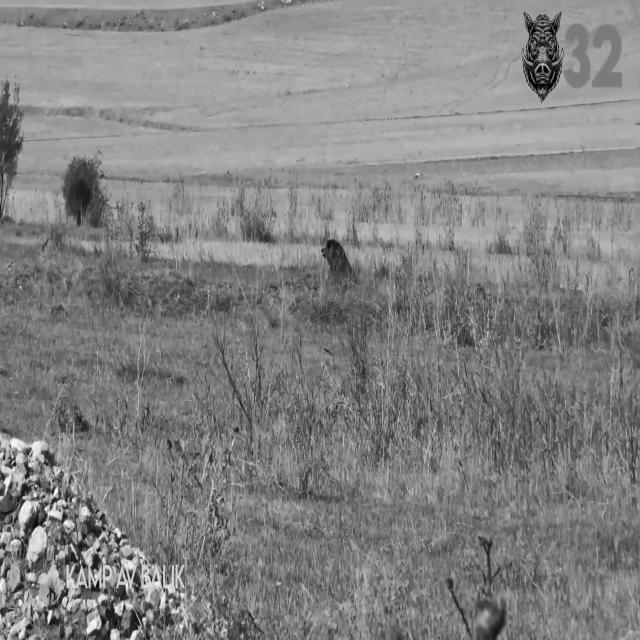boar: (521, 12, 563, 101), (321, 238, 352, 279)
